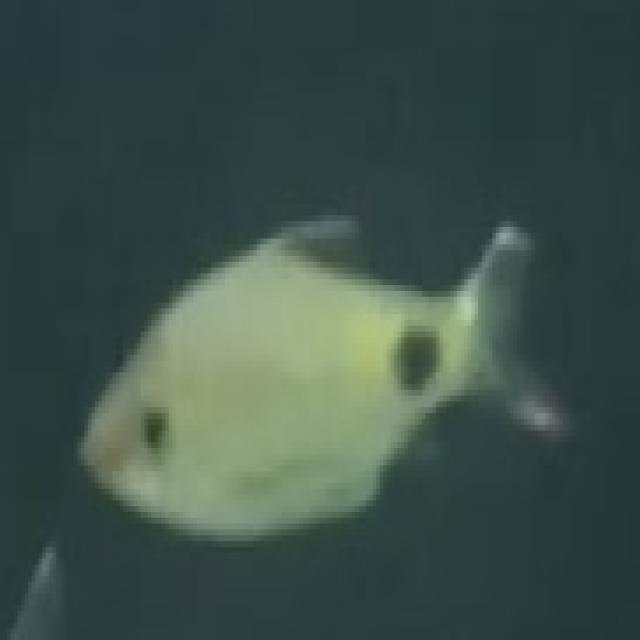Black-Spotted-Barb: (58, 154, 571, 568)
